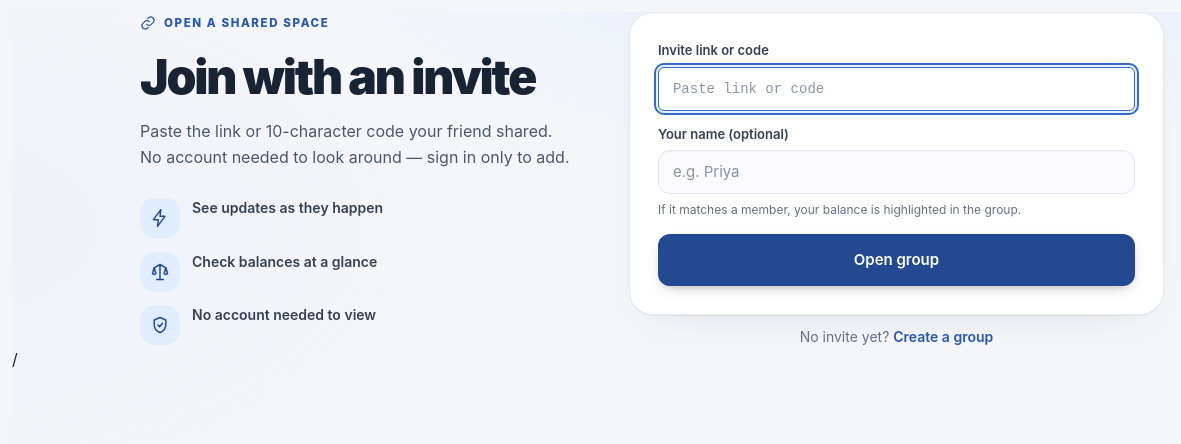
Test: JoinGroup › requires an invite value
Click the button "Open group" at (896, 260), box [658, 234, 1135, 286]
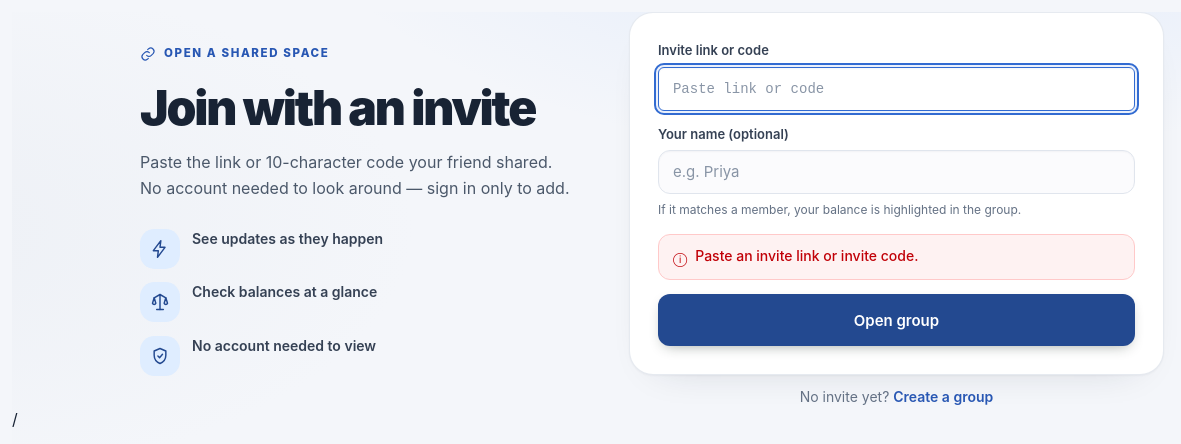
Now the message shows "invite link or invite code", box [695, 246, 918, 264]
